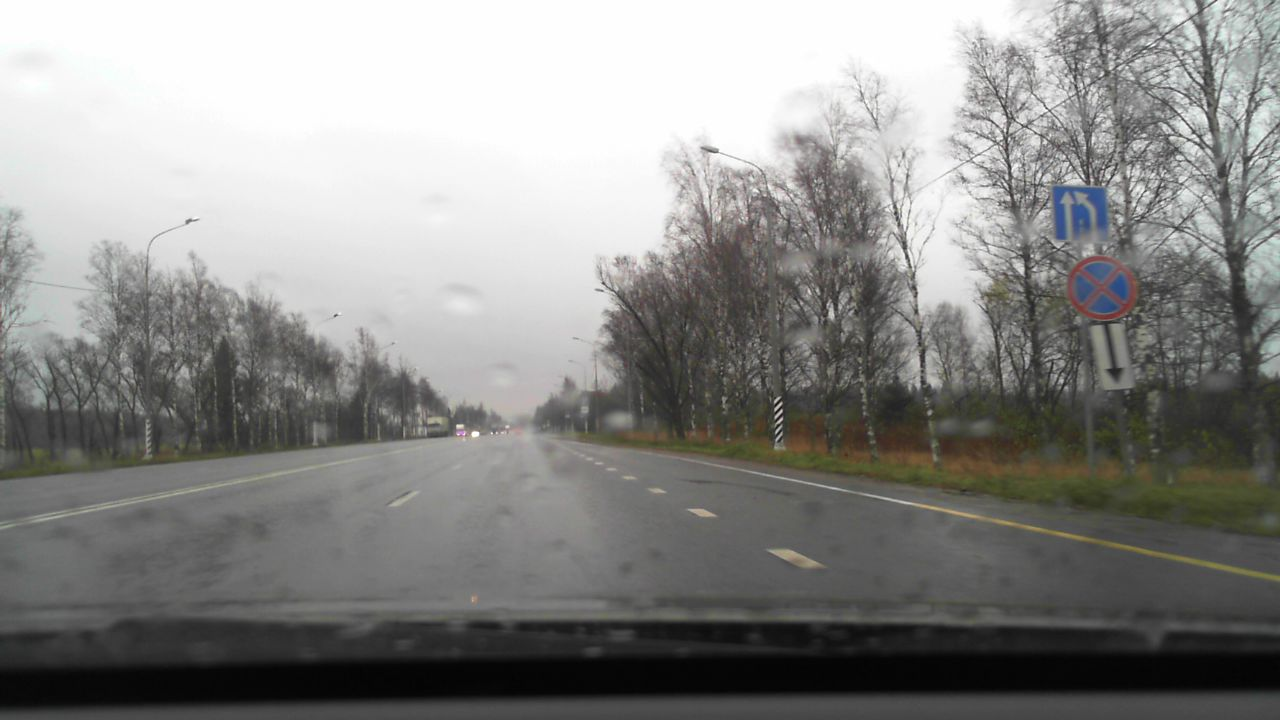No Parking: (1066, 255, 1136, 321)
